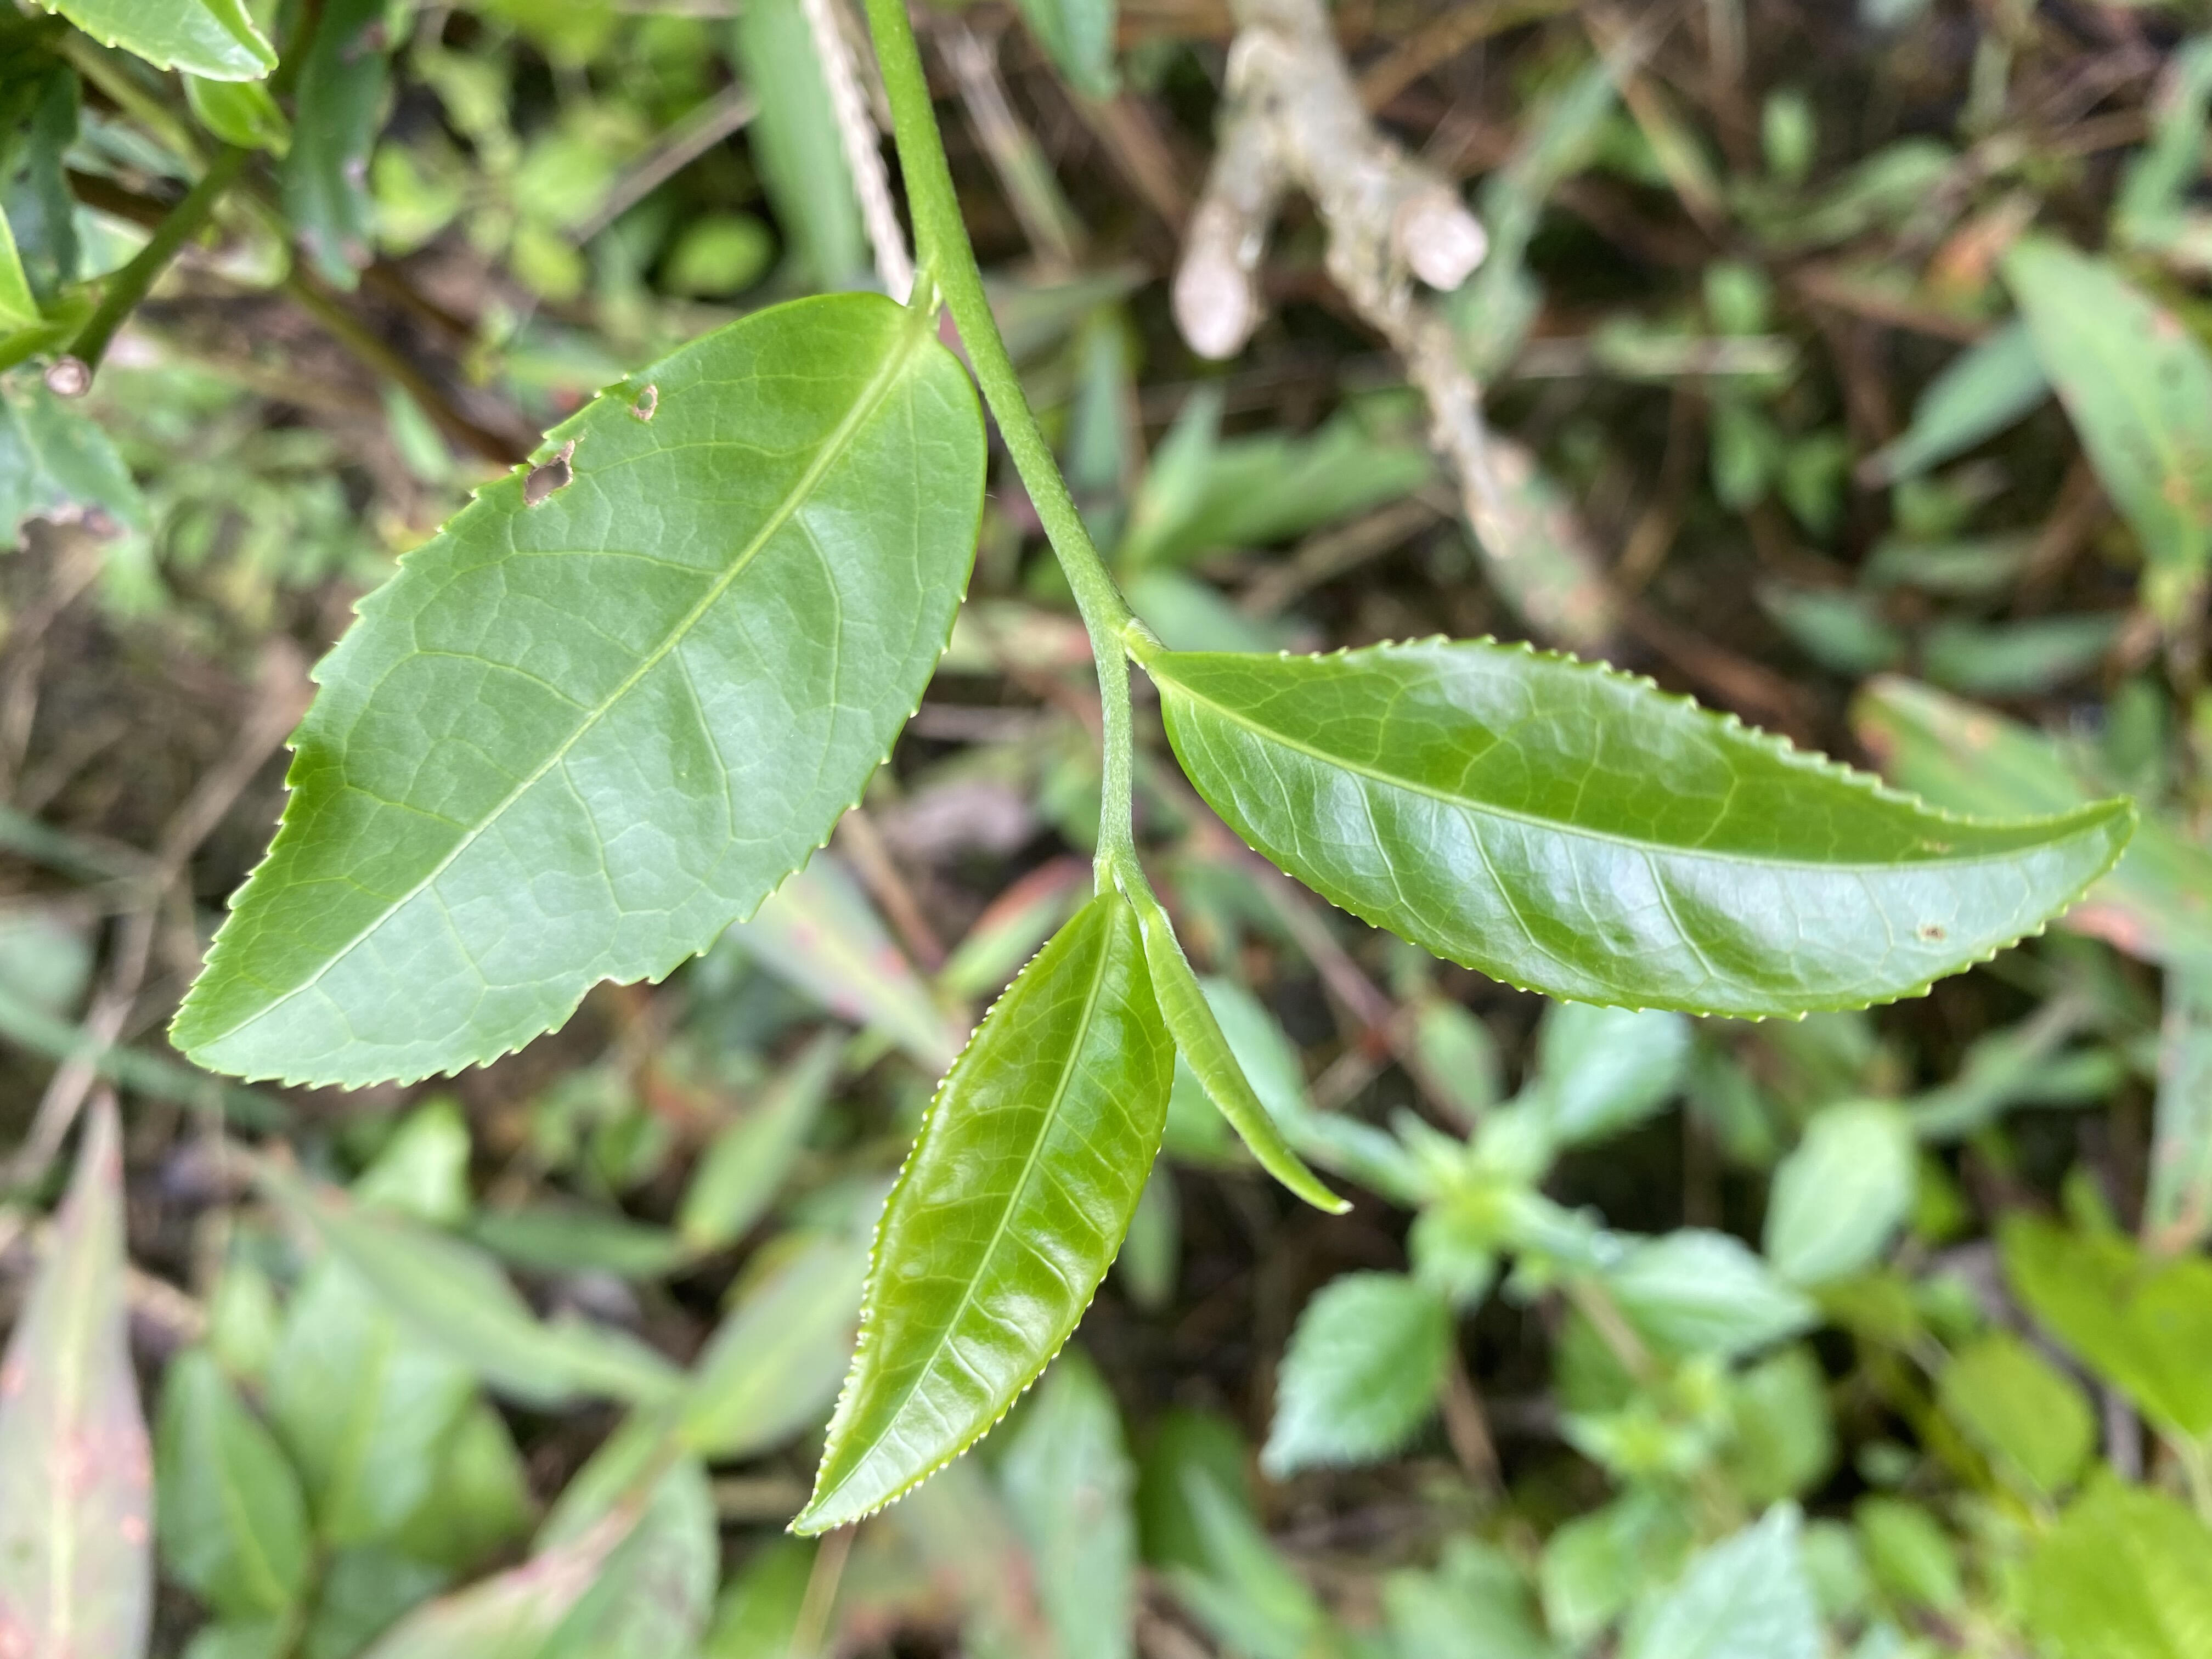chihuo_high: (164, 289, 989, 1091)
healthy: (1158, 631, 2137, 1028), (782, 884, 1176, 1539)
